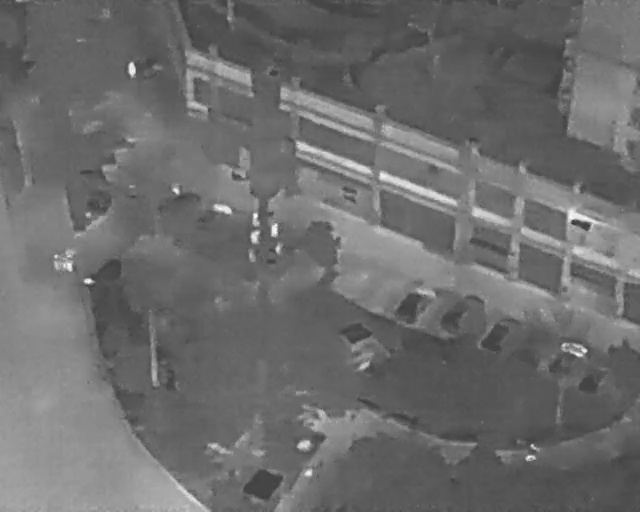Car: (436, 285, 489, 342), (391, 276, 443, 332), (475, 306, 526, 361), (542, 331, 592, 385), (574, 358, 614, 401)
Person: (49, 253, 63, 272), (126, 59, 137, 80), (64, 252, 75, 272)
